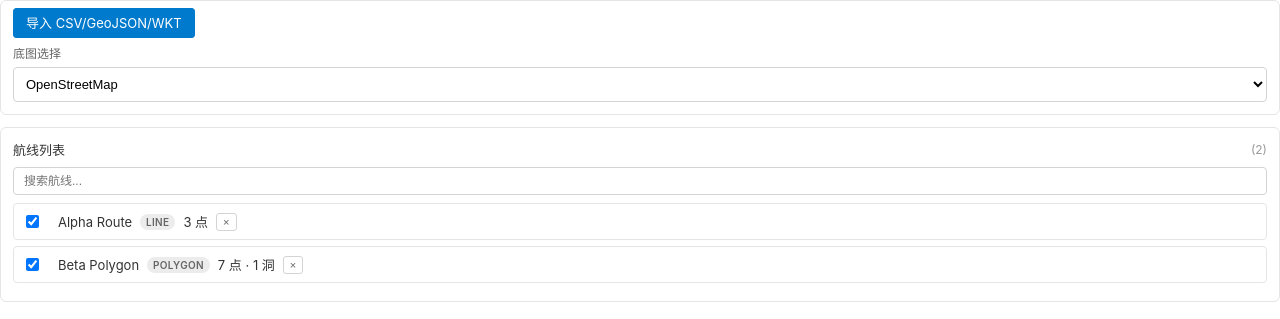
Scenario: FilesPanel › renders route entries and filters by search query
Expected: the number of elements with class "route-item" is 2, [13,203,1267,240]; [13,246,1267,283]
Expected: the text with class "route-count" reads "(2)", [1251,142,1267,157]
Type "polygon" into the field with id "route-search" at (640, 181), box [13,167,1267,195]
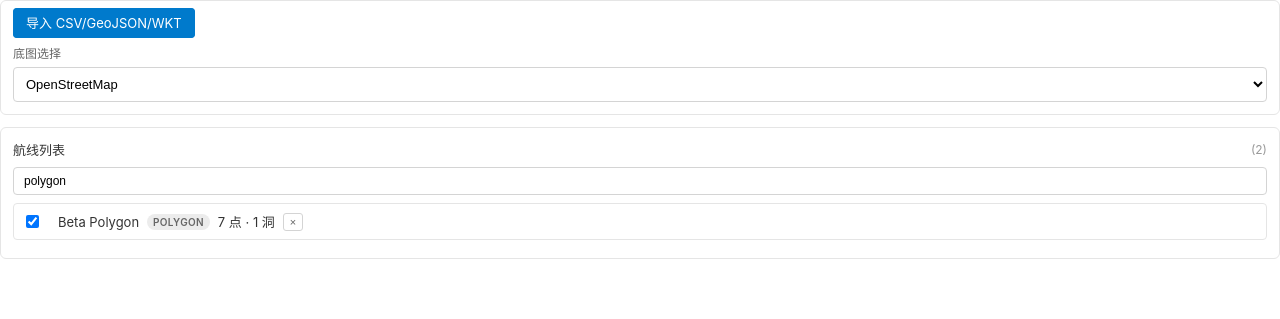
Expected: the element with class "route-item" shows "Beta Polygon", [58,214,139,230]
Result: the number of elements with class "route-item" is 1 at [13,203,1267,240]
